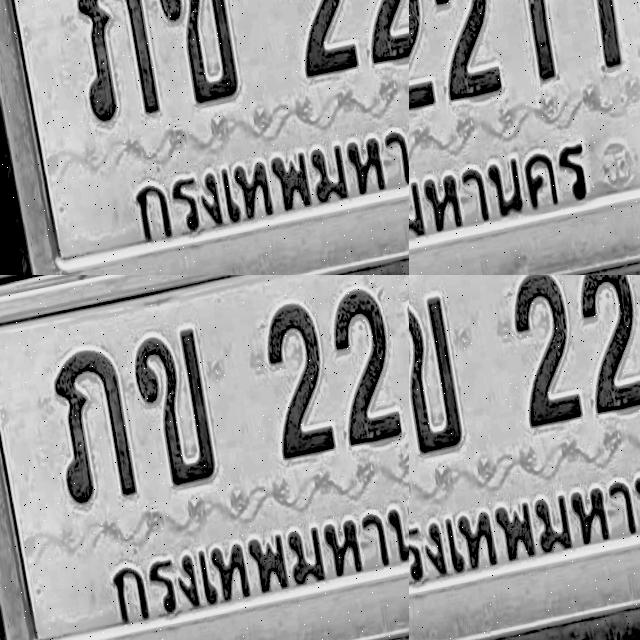license-plate: (409, 275, 640, 640), (0, 275, 188, 361)
